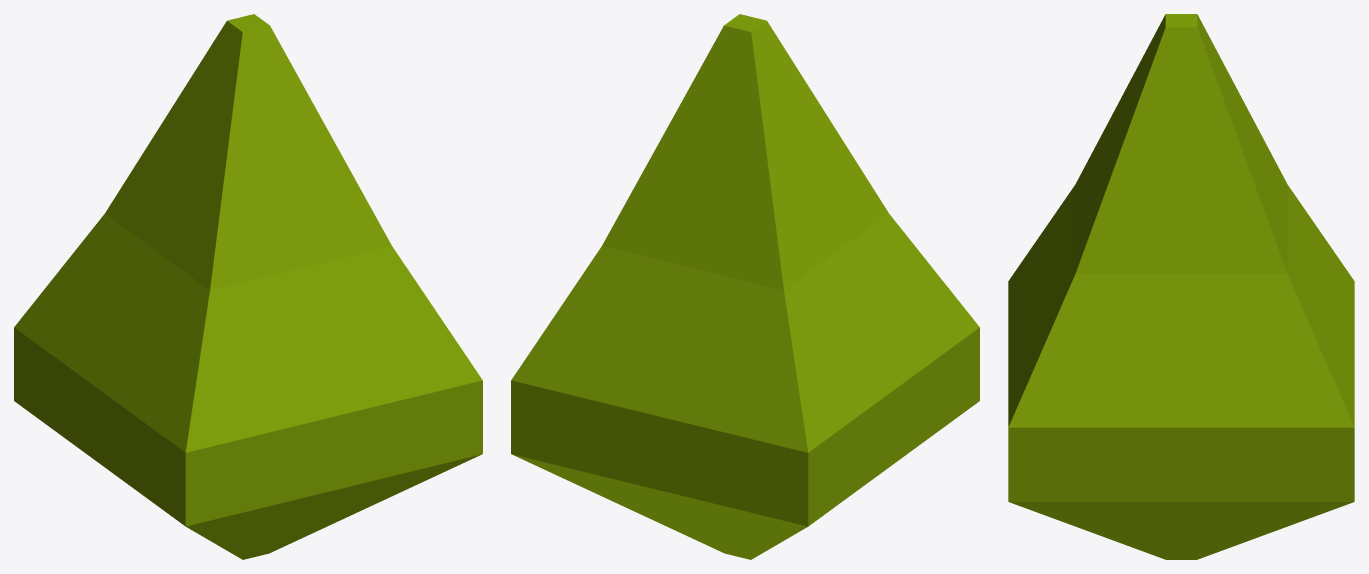
Rendered from Bush03.fbx.
3 views of the same model, side by side, from view 1: azimuth 30°, elevation 25°; view 2: azimuth 150°, elevation 25°; view 3: azimuth 270°, elevation 25° (orthographic).
Parts seen in each view (by area): view 1: pCube20; view 2: pCube20; view 3: pCube20.
Boxes of the visible parts, x1,y1,x2,y2 form: pCube20: (14, 14, 482, 559); pCube20: (511, 14, 979, 559); pCube20: (1008, 14, 1354, 559).
Bounding box in the file's own units: 1287 × 1287 × 2187.
